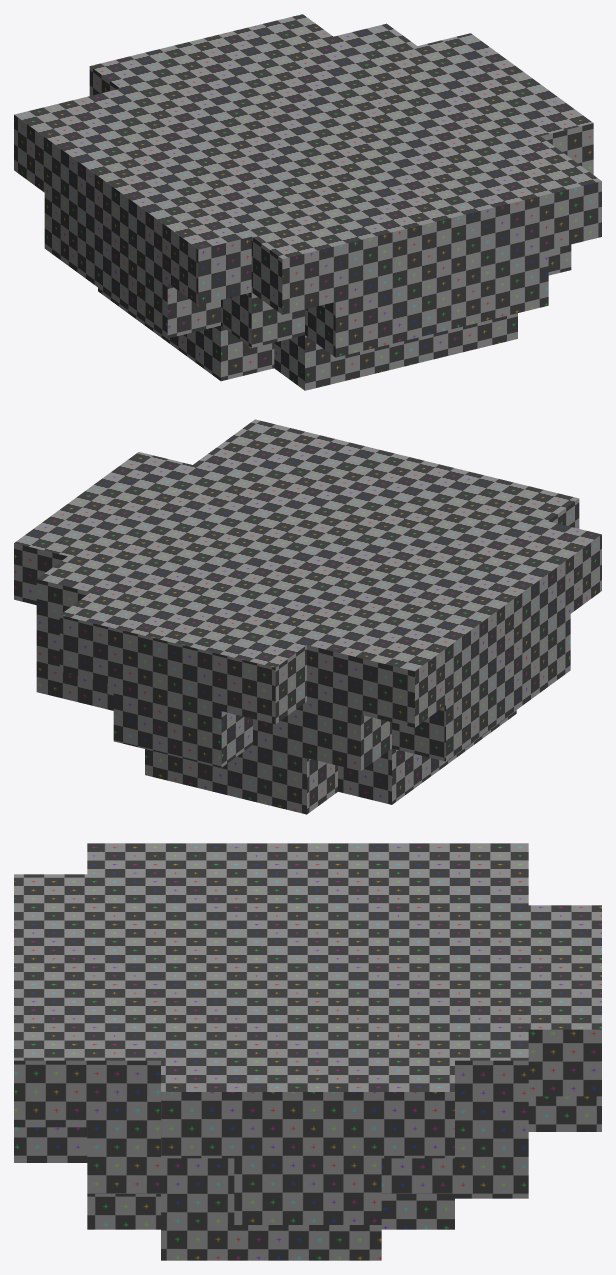
The model's file is Platform_1_3.glb.
The picture shows the model from 3 angles, top to bottom: view 1: azimuth 30°, elevation 25°; view 2: azimuth 150°, elevation 25°; view 3: azimuth 270°, elevation 25°; orthographic projection. The views are drawn at different scales.
Visible parts, largest first — view 1: platform_1; view 2: platform_1; view 3: platform_1.
Boxes of the visible parts, x1,y1,x2,y2 form: platform_1: (14, 14, 601, 390); platform_1: (14, 419, 601, 814); platform_1: (14, 843, 601, 1260).
Size of the model in its own units: 0.8 by 0.3 by 0.8.
Materials: 1 (1 with a texture image).
